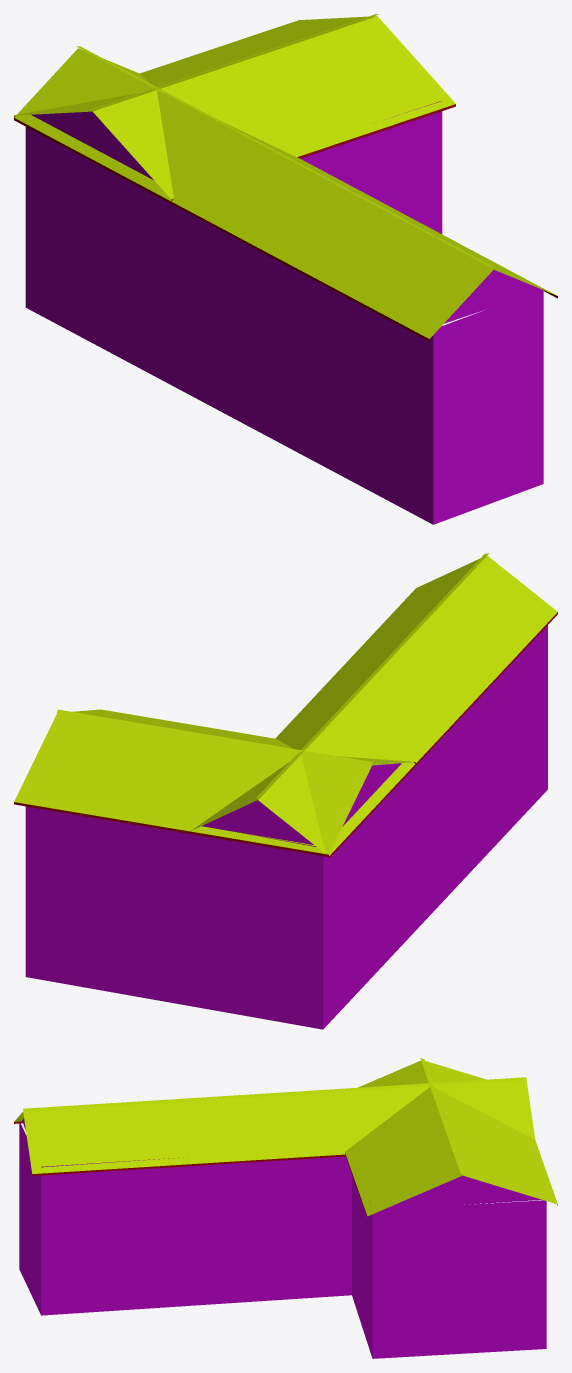
The model's file is niv_73.glb.
3 renders of one model, top to bottom at view 1: azimuth 30°, elevation 25°; view 2: azimuth 150°, elevation 25°; view 3: azimuth 270°, elevation 25°, orthographic. The views are drawn at different scales.
Parts seen in each view (by area): view 1: niv_73; view 2: niv_73; view 3: niv_73.
Part boxes in pixels (left/top/right/bottom): niv_73: left=14, top=14, right=557, bottom=524; niv_73: left=14, top=553, right=557, bottom=1029; niv_73: left=14, top=1058, right=557, bottom=1358.
Bounding box in the file's own units: 16.9 × 11.31 × 30.46.
